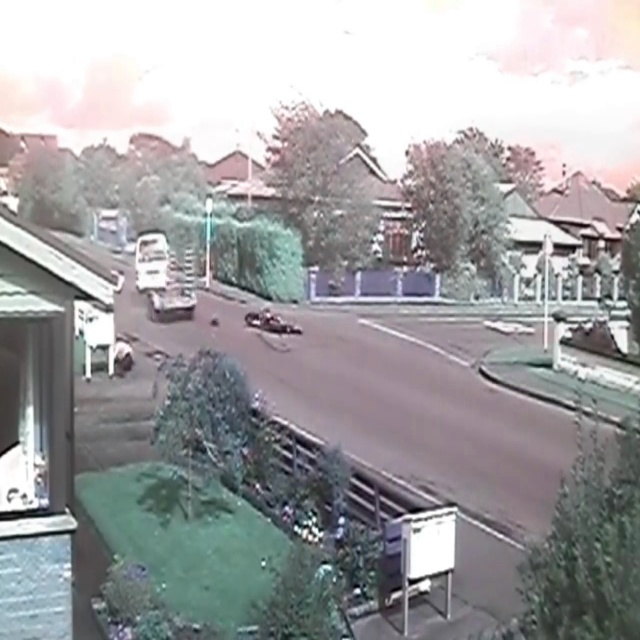acc: (94, 304, 315, 375)
